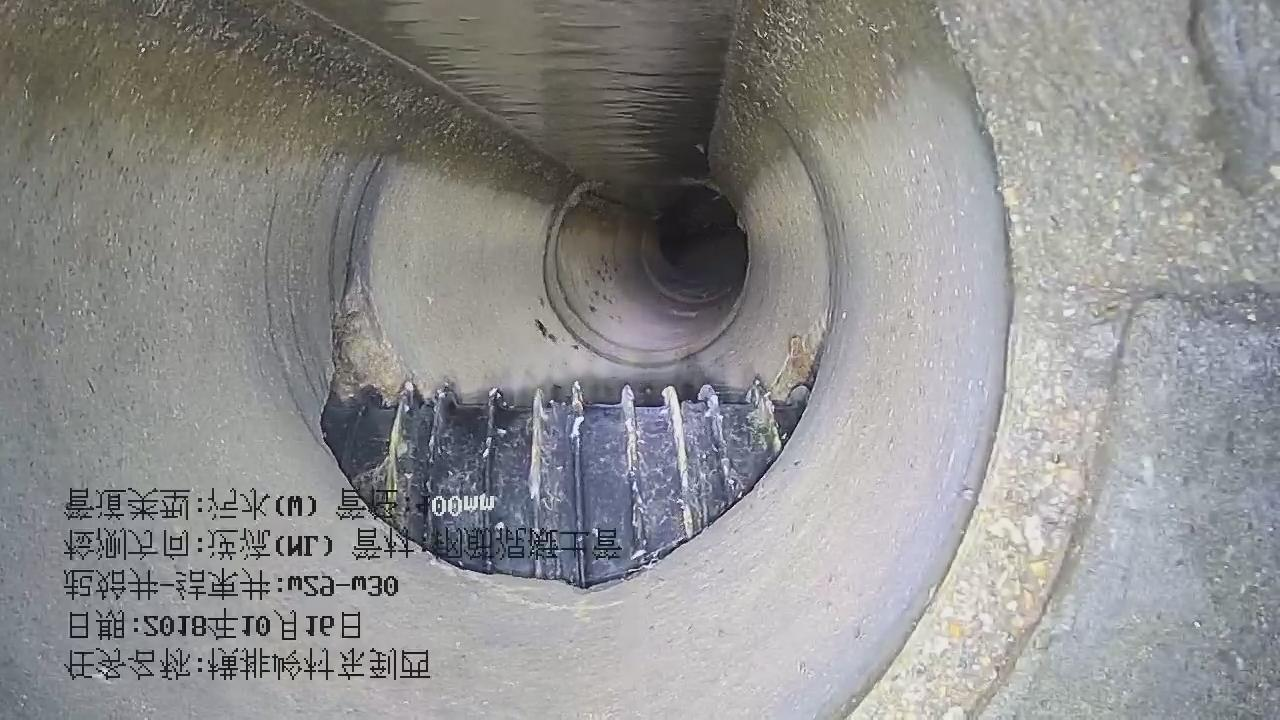CKTJ: (542, 182, 753, 369)
YWCR: (323, 381, 807, 588)
